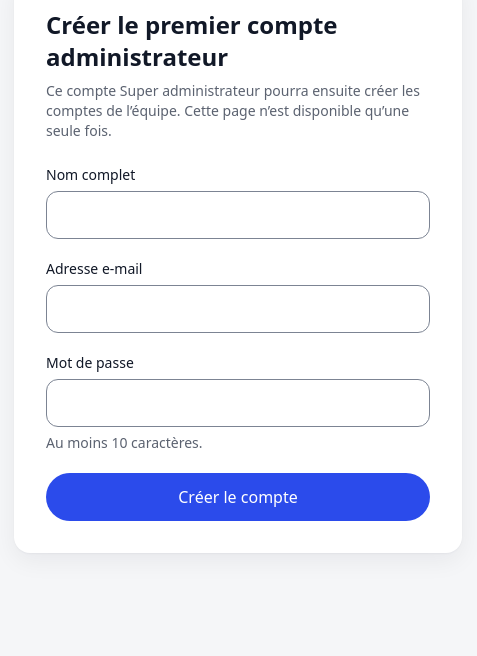
Test case: SetupForm (fr) › shows the server's error in the current language
Type "Amani" into the field labelled "Nom complet".
click(238, 215); type("Amani")  # box [46,191,430,239]
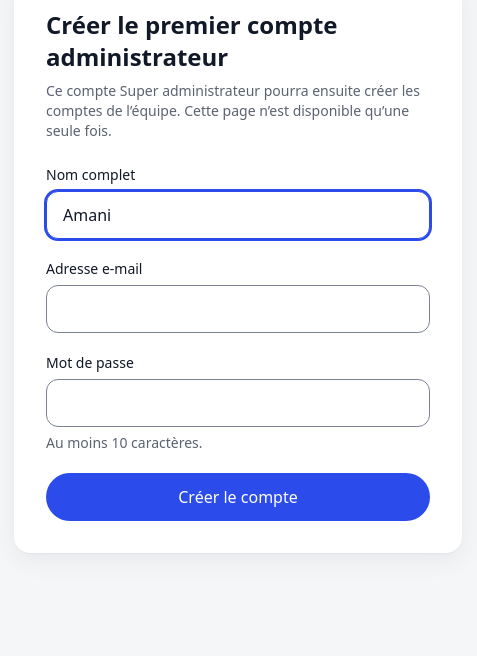
Type "amani@example.com" into the field labelled "Adresse e-mail".
click(238, 309); type("amani@example.com")  # box [46,285,430,333]
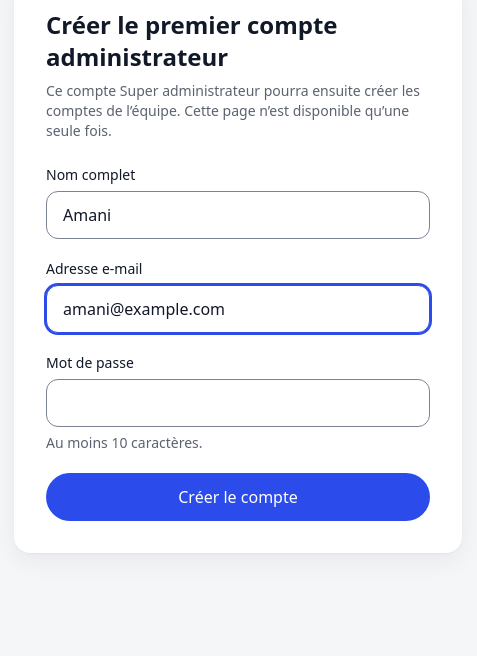
Type "a-long-secret-1" into the password field labelled "Mot de passe".
click(238, 403); type("a-long-secret-1")  # box [46,379,430,427]
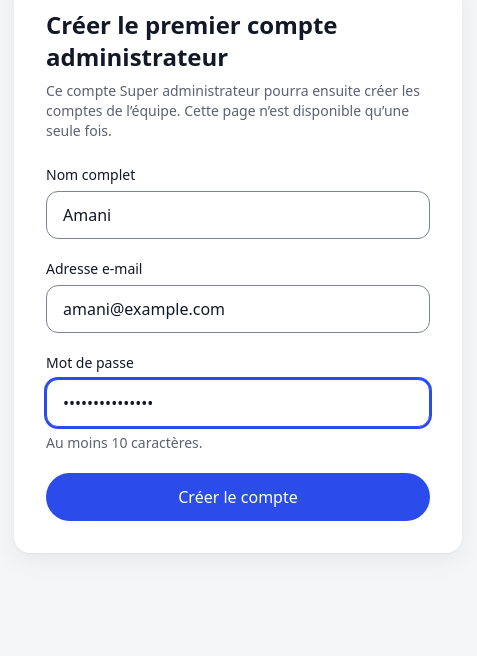
Click the button "Créer le compte".
click(238, 497)  # box [46,473,430,521]
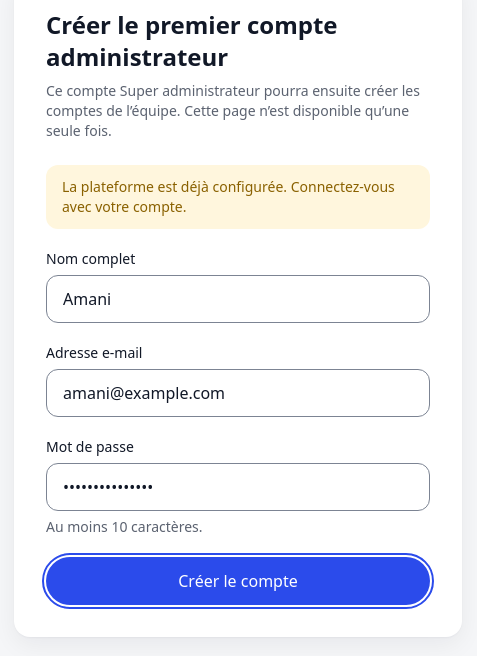
Check: the message reads "La plateforme est déjà configurée. Connectez-vous avec votre compte.", box [62,177,395,216]
